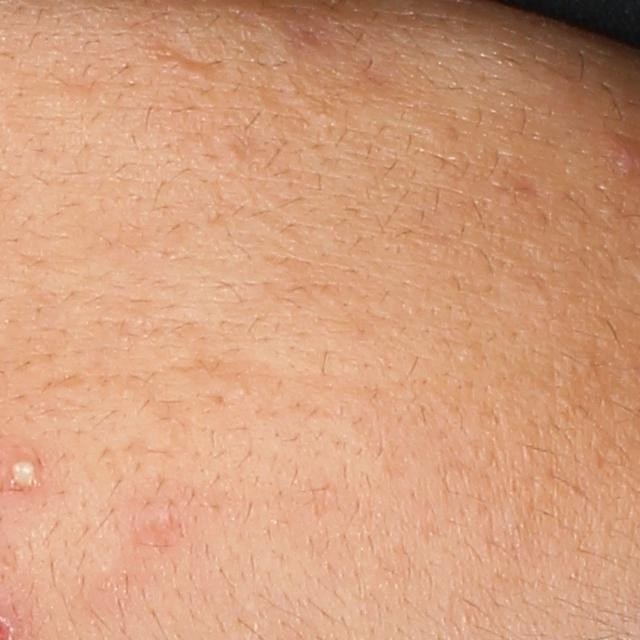pustule: (7, 452, 43, 493)
